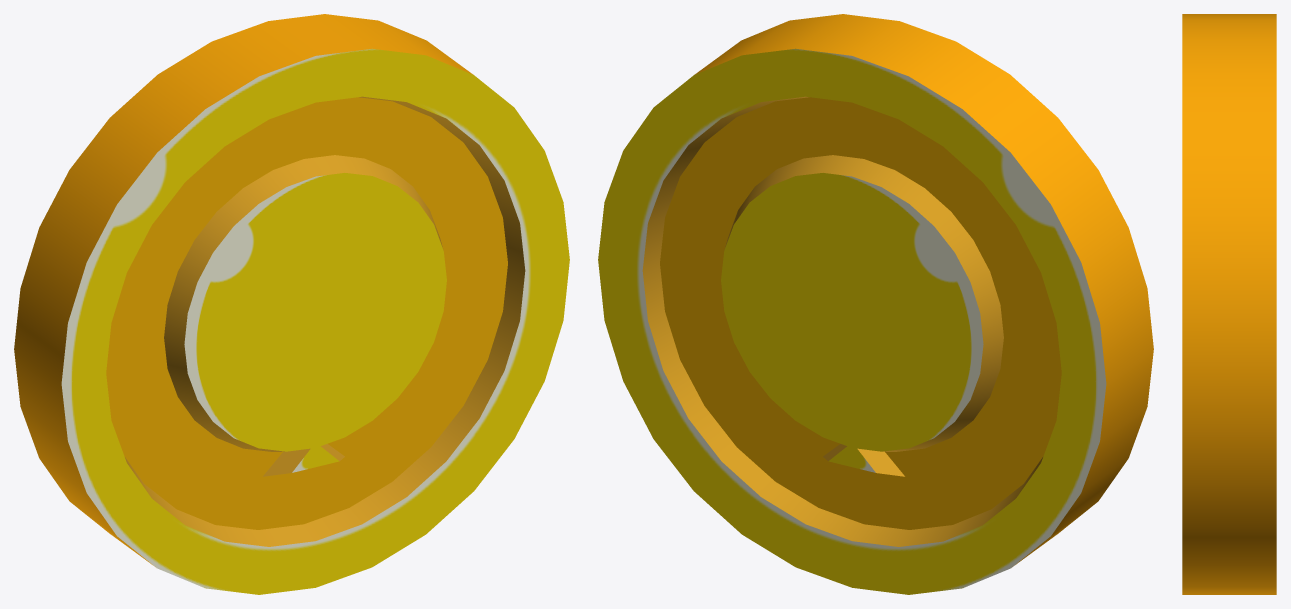
File: Coin_01.FBX
The picture shows the model from 3 angles, left to right: view 1: azimuth 30°, elevation 25°; view 2: azimuth 150°, elevation 25°; view 3: azimuth 270°, elevation 25°; orthographic projection.
Parts seen in each view (by area): view 1: Coin_01; view 2: Coin_01; view 3: Coin_01.
Boxes of the visible parts, box(x1,y1,x2,y2) form: Coin_01: box(14, 14, 569, 594); Coin_01: box(598, 14, 1153, 594); Coin_01: box(1182, 14, 1276, 594).
Bounding box in the file's own units: 3.89 × 3.89 × 0.6299.
